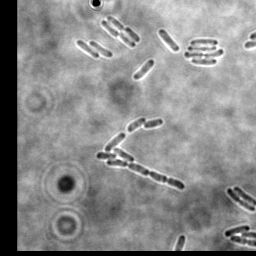microcolony: (94, 117, 185, 191), (100, 15, 141, 48), (183, 37, 223, 66), (224, 185, 256, 214), (223, 223, 256, 246)
rod: (157, 27, 181, 53), (132, 57, 156, 80), (88, 39, 115, 59), (76, 39, 100, 60)
